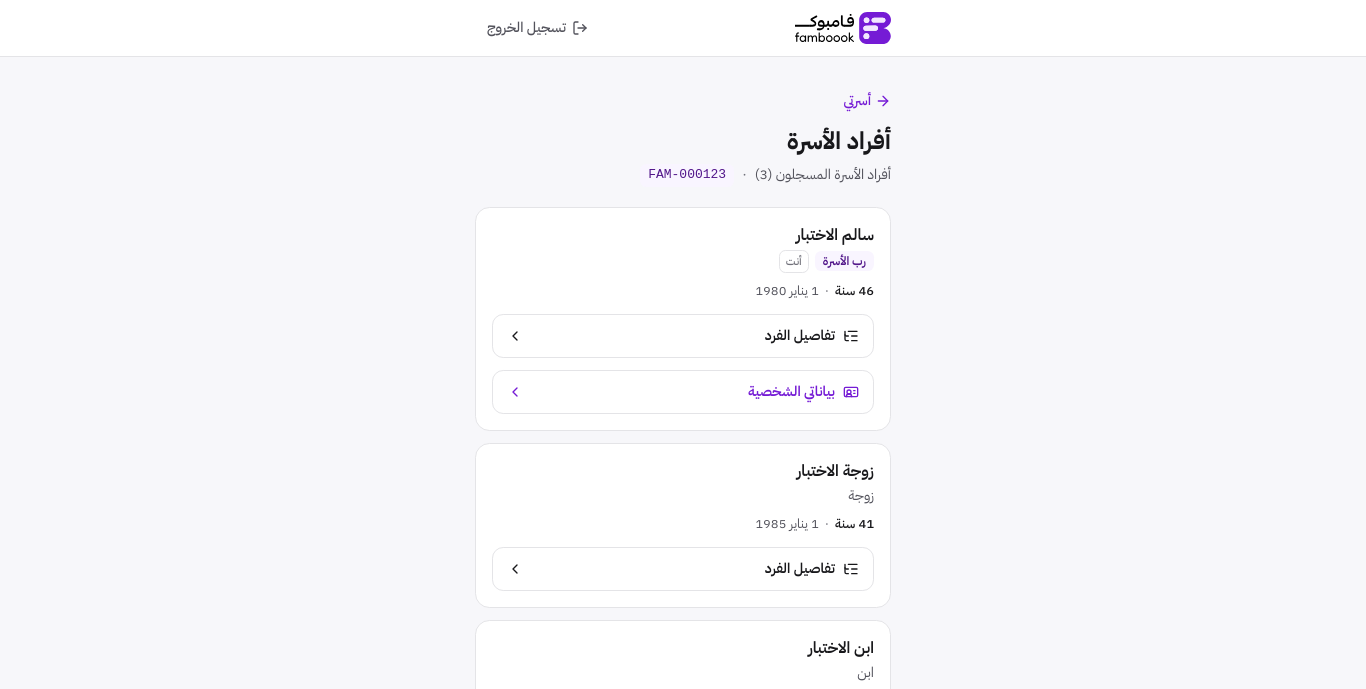
Scenario: the member sheet «الحالة الصحية» › shows a loading state, then an error with retry that leaves the member's other data in place
Click the button "تفاصيل الفرد" below "زوجة الاختبار": [800, 568] box [492,547,874,591]
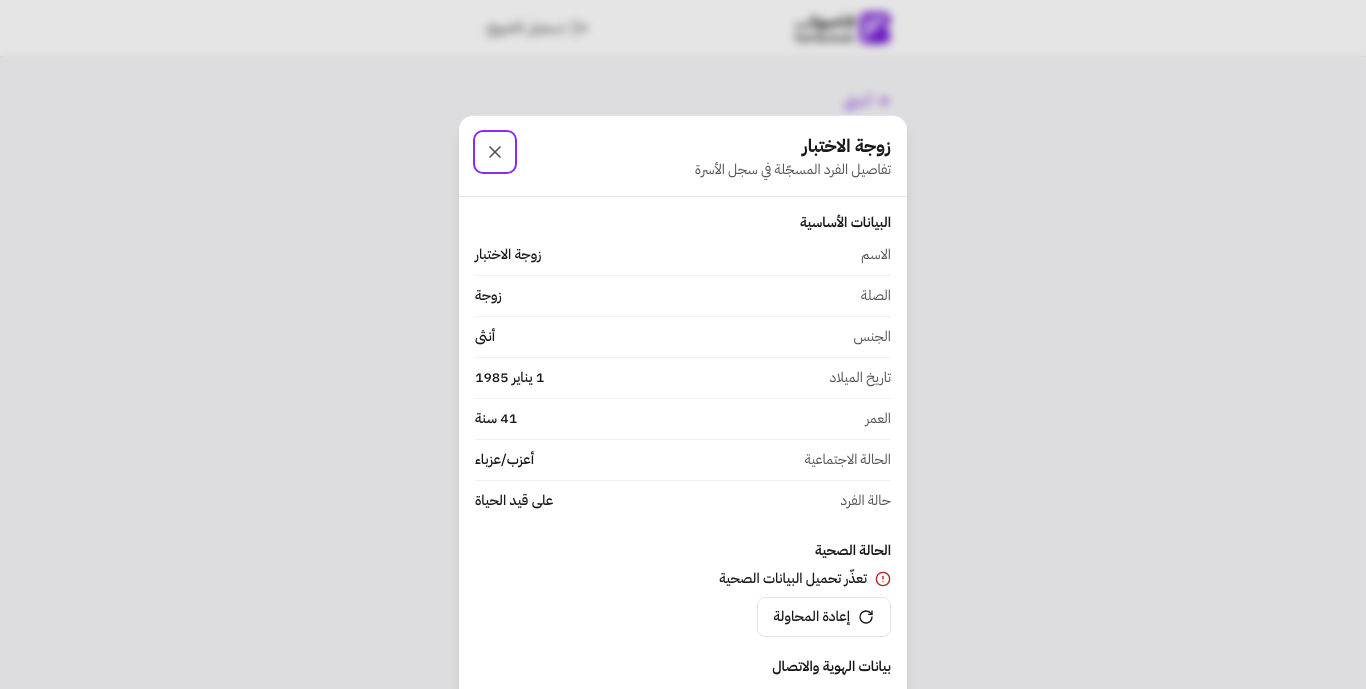
Result: the text "تعذّر تحميل البيانات الصحية" is shown at [719,569,891,589]
Result: the heading "البيانات الأساسية" is shown at [800,212,891,233]
Result: the heading "بيانات الهوية والاتصال" is shown at [772,656,891,677]
Click the button "إعادة المحاولة": [824, 617] box [756,597,891,637]
(page scrolled)
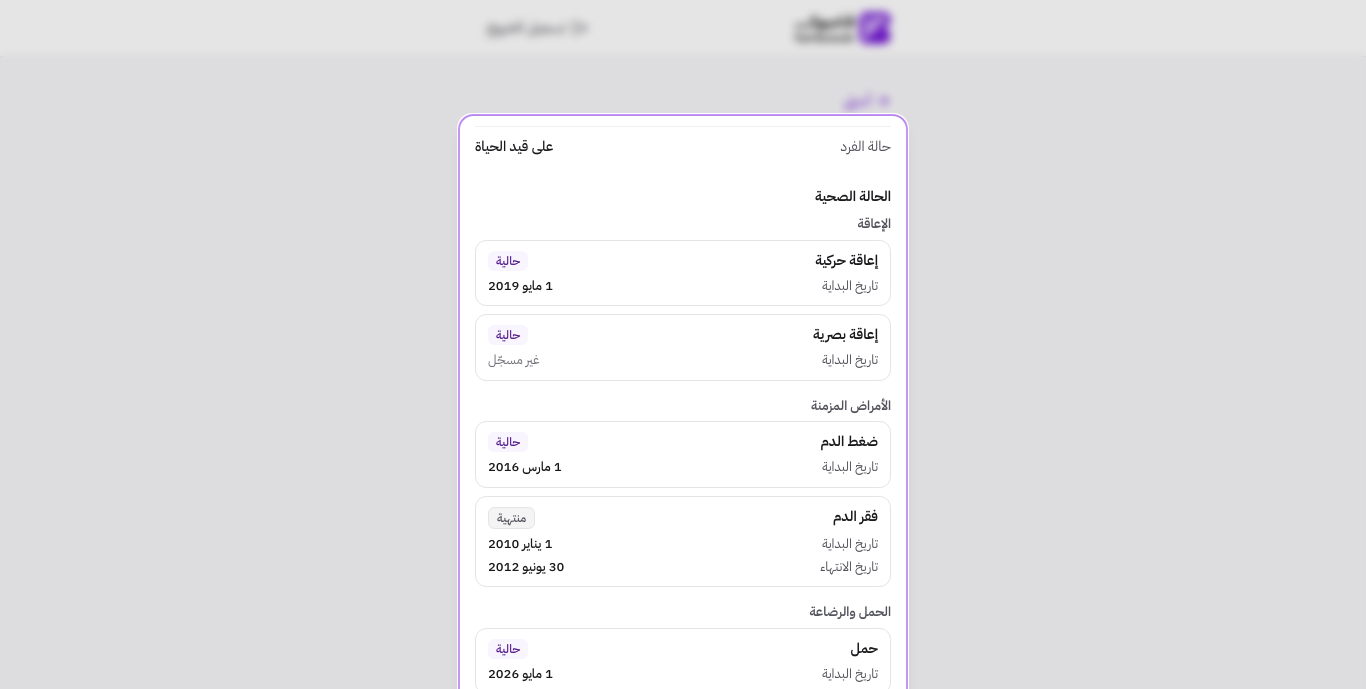
Result: the text "ضغط الدم" is shown at [820,432,878,452]
